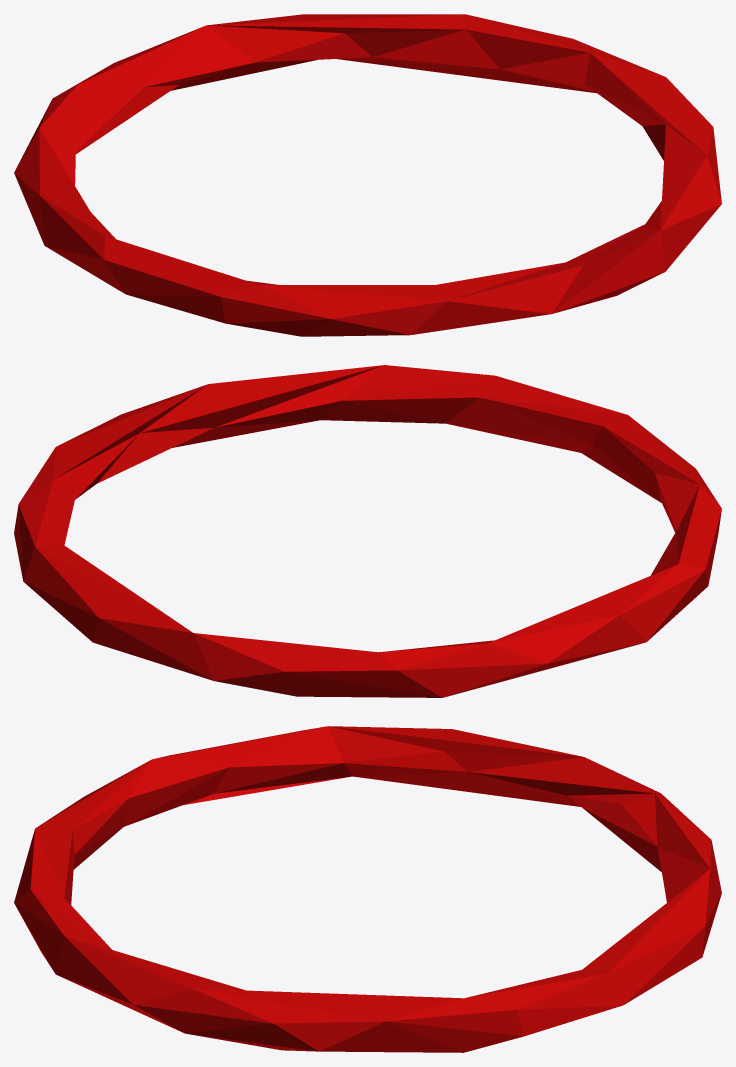
The model's file is Heart ring.fbx.
3 views of the same model, one above another, from view 1: azimuth 30°, elevation 25°; view 2: azimuth 150°, elevation 25°; view 3: azimuth 270°, elevation 25° (orthographic).
Visible parts, largest first — view 1: Torus_1; view 2: Torus_1; view 3: Torus_1.
Part boxes in pixels (x1,y1,x2,y2): Torus_1: [14, 14, 721, 336]; Torus_1: [14, 365, 721, 697]; Torus_1: [14, 726, 721, 1052].
Size of the model in its own units: 426 by 32.17 by 430.
